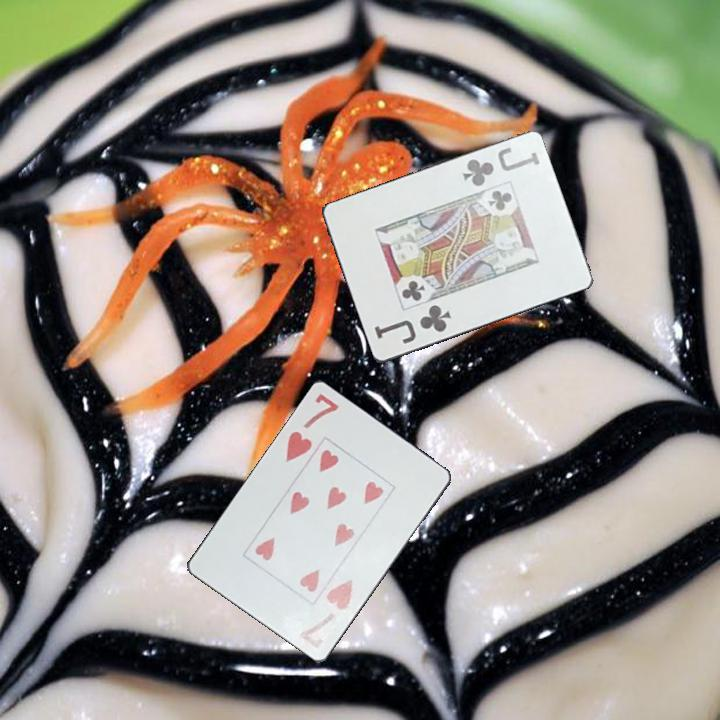7h: (295, 576, 356, 652), (282, 390, 342, 465)
Jc: (370, 301, 454, 348), (458, 144, 542, 190)
